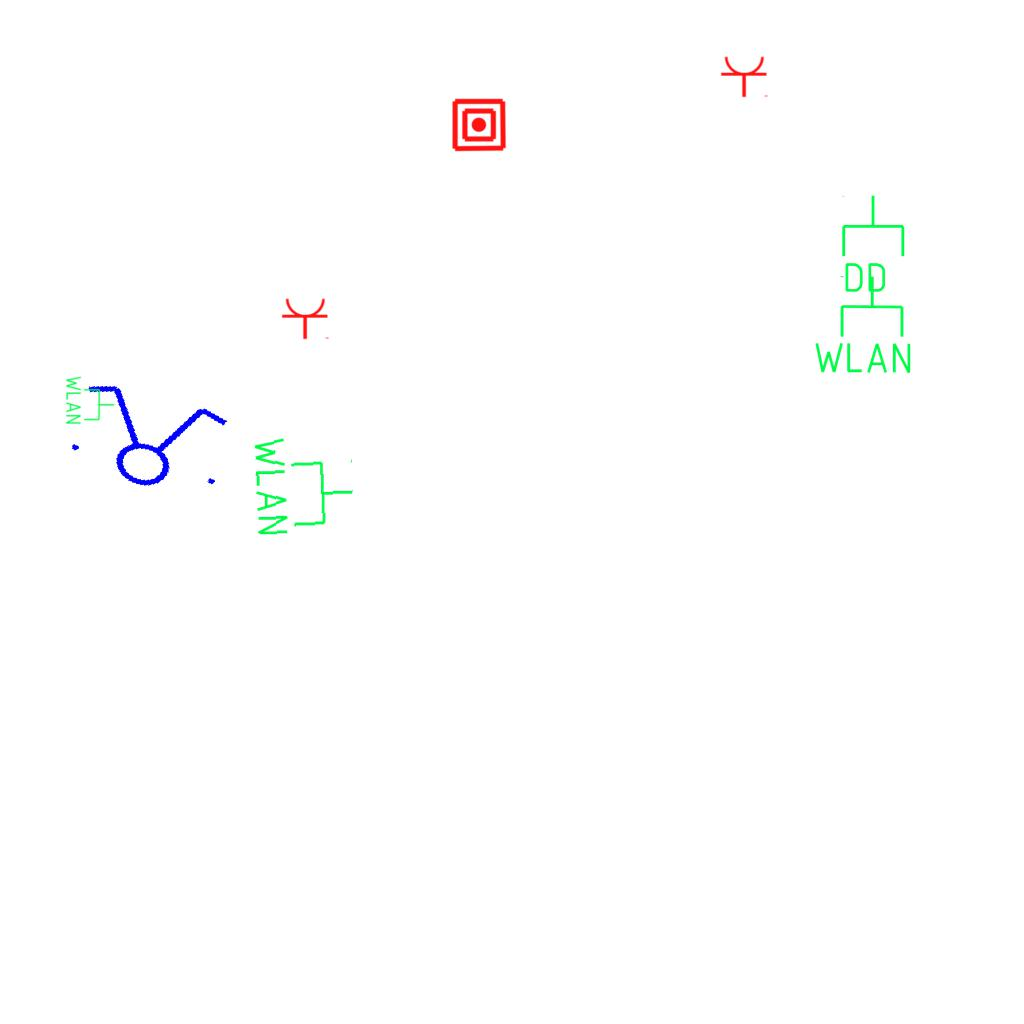Datenanschluss_zweifach: (838, 193, 907, 296)
NAM-Nichtautomatischer_Melder: (451, 97, 507, 153)
Schukosteckdose_einfach: (720, 55, 770, 98), (281, 297, 331, 340)
Serienschalter: (54, 372, 242, 506)
WLAN: (249, 429, 359, 540), (810, 273, 915, 377), (64, 374, 116, 426)
